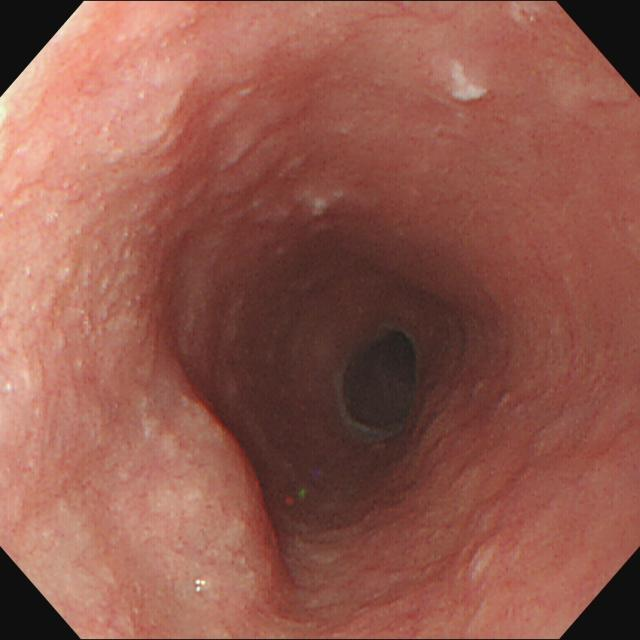A: (130, 349, 298, 624), (81, 55, 258, 220)
E: (341, 324, 425, 441)
J: (450, 64, 491, 104)
